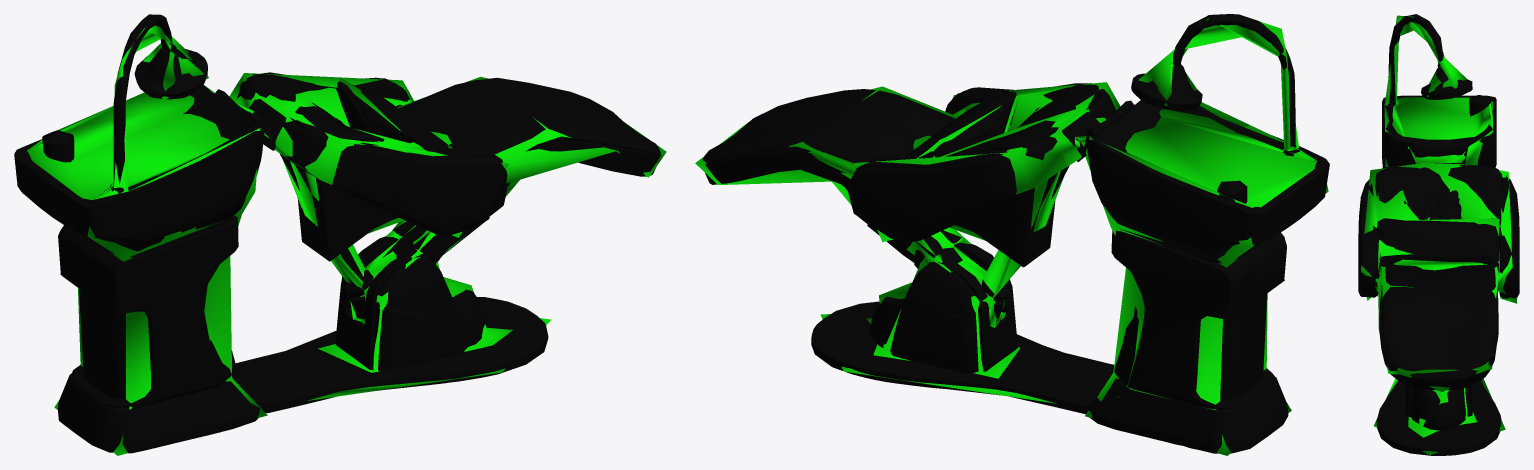
The model's file is washchair-reforgerready.fbx.
3 renders of one model, left to right at view 1: azimuth 30°, elevation 25°; view 2: azimuth 150°, elevation 25°; view 3: azimuth 270°, elevation 25°, orthographic. The views are drawn at different scales.
Parts seen in each view (by area): view 1: defaultobject, UTM_defaultobject; view 2: defaultobject, UTM_defaultobject; view 3: defaultobject, UTM_defaultobject.
Part boxes in pixels (x1=…): defaultobject: x1=14, y1=14, x2=660, y2=453; UTM_defaultobject: x1=27, y1=25, x2=666, y2=455; defaultobject: x1=702, y1=14, x2=1329, y2=453; UTM_defaultobject: x1=695, y1=18, x2=1328, y2=455; defaultobject: x1=1358, y1=14, x2=1519, y2=455; UTM_defaultobject: x1=1361, y1=15, x2=1517, y2=454.
Size of the model in its own units: 182 by 120 by 59.03.
